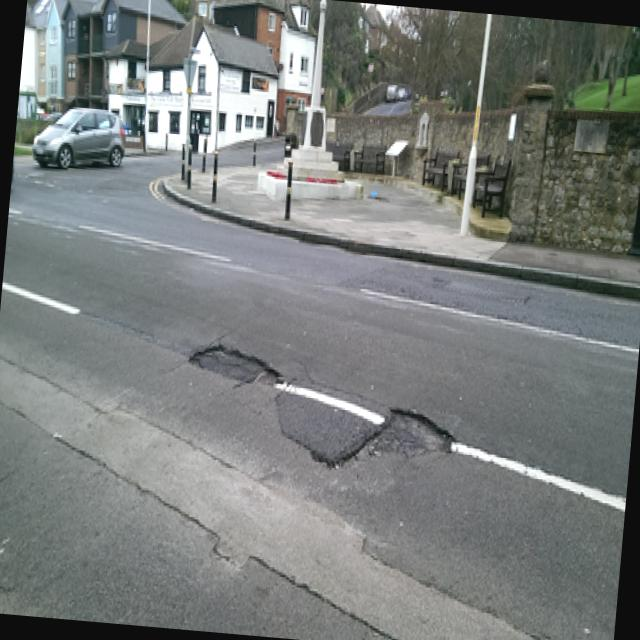bad-road: (308, 398, 458, 483), (185, 337, 286, 390)
